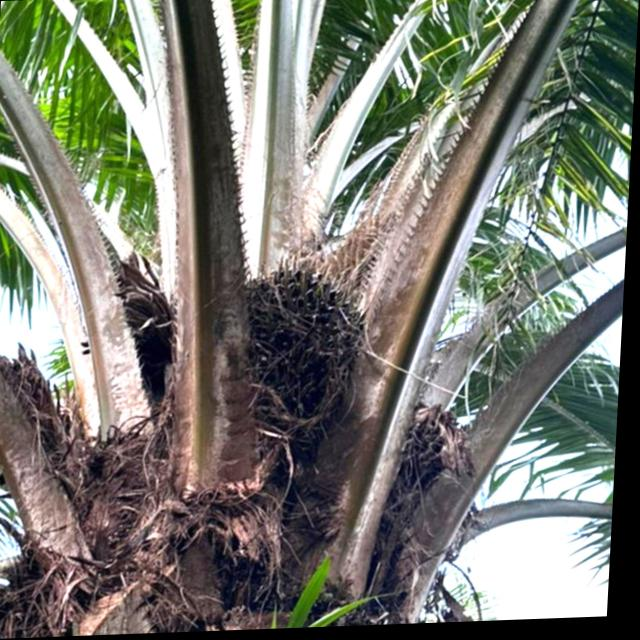unripe: (223, 251, 384, 461)
